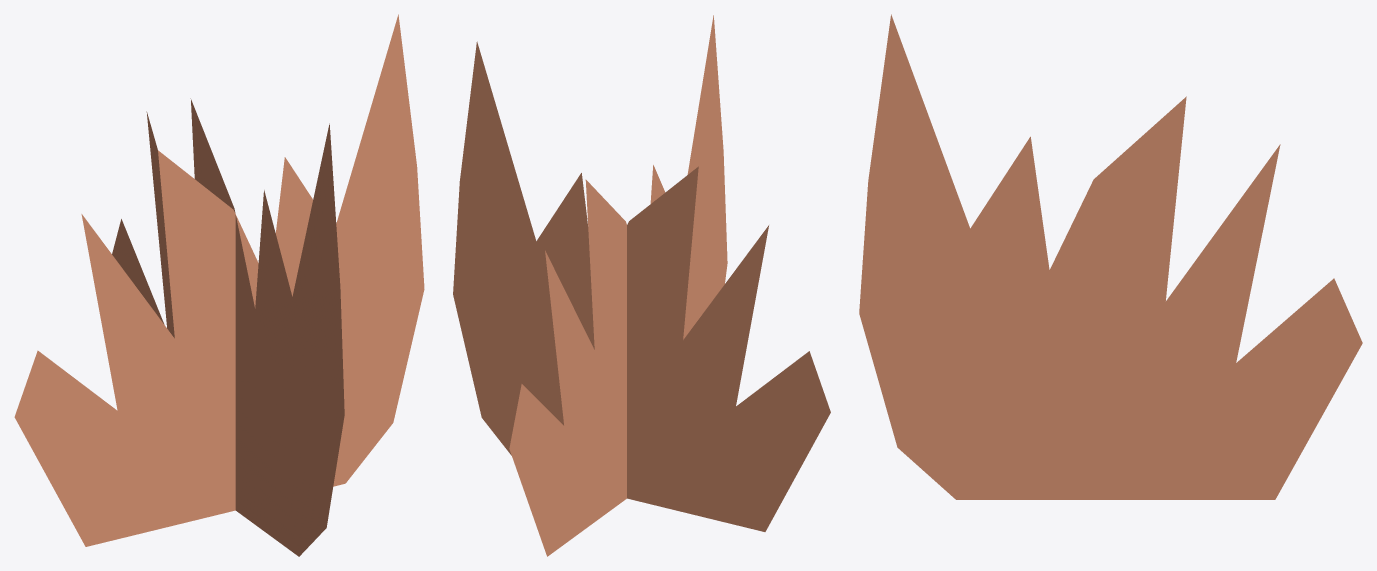
File: fire2.glb
3 views of the same model, side by side, from view 1: azimuth 30°, elevation 25°; view 2: azimuth 150°, elevation 25°; view 3: azimuth 270°, elevation 25° (orthographic). The views are drawn at different scales.
Visible parts, largest first — view 1: Plane; view 2: Plane; view 3: Plane.
Boxes of the visible parts, box(x1,y1,x2,y2) form: Plane: box(14, 14, 424, 556); Plane: box(453, 15, 830, 556); Plane: box(859, 14, 1362, 499).
Size of the model in its own units: 1.79 by 1.9 by 1.79.
